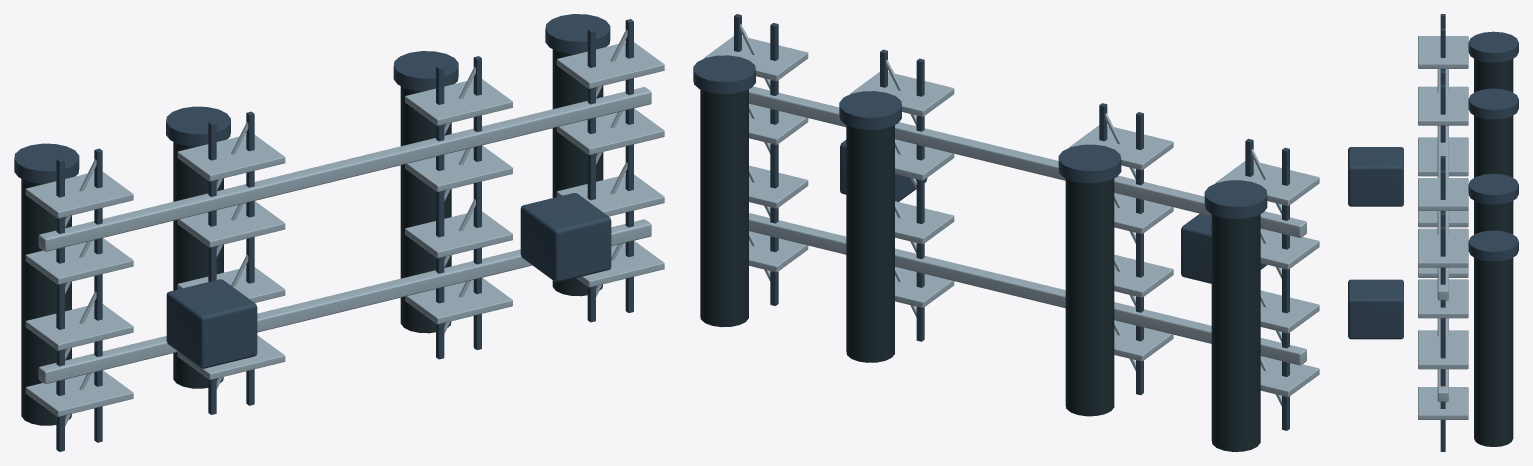
Rendered from iron-foundry-v1.glb.
3 renders of one model, left to right at view 1: azimuth 30°, elevation 25°; view 2: azimuth 150°, elevation 25°; view 3: azimuth 270°, elevation 25°, orthographic. The views are drawn at different scales.
Parts seen in each view (by area): view 1: Concrete and brushed alloy.001, Oxidised armour.001, Recesses.001; view 2: Recesses.001, Concrete and brushed alloy.001, Oxidised armour.001; view 3: Concrete and brushed alloy.001, Oxidised armour.001, Recesses.001.
Part boxes in pixels (x1,y1,x2,y2): Concrete and brushed alloy.001: (25,29,664,426); Oxidised armour.001: (14,14,633,451); Recesses.001: (21,49,603,425); Recesses.001: (700,89,1260,451); Concrete and brushed alloy.001: (704,24,1319,406); Oxidised armour.001: (693,14,1289,430); Concrete and brushed alloy.001: (1418,36,1468,419); Oxidised armour.001: (1348,14,1518,451); Recesses.001: (1474,59,1513,446).
Size of the model in its own units: 96 by 44 by 30.5.
